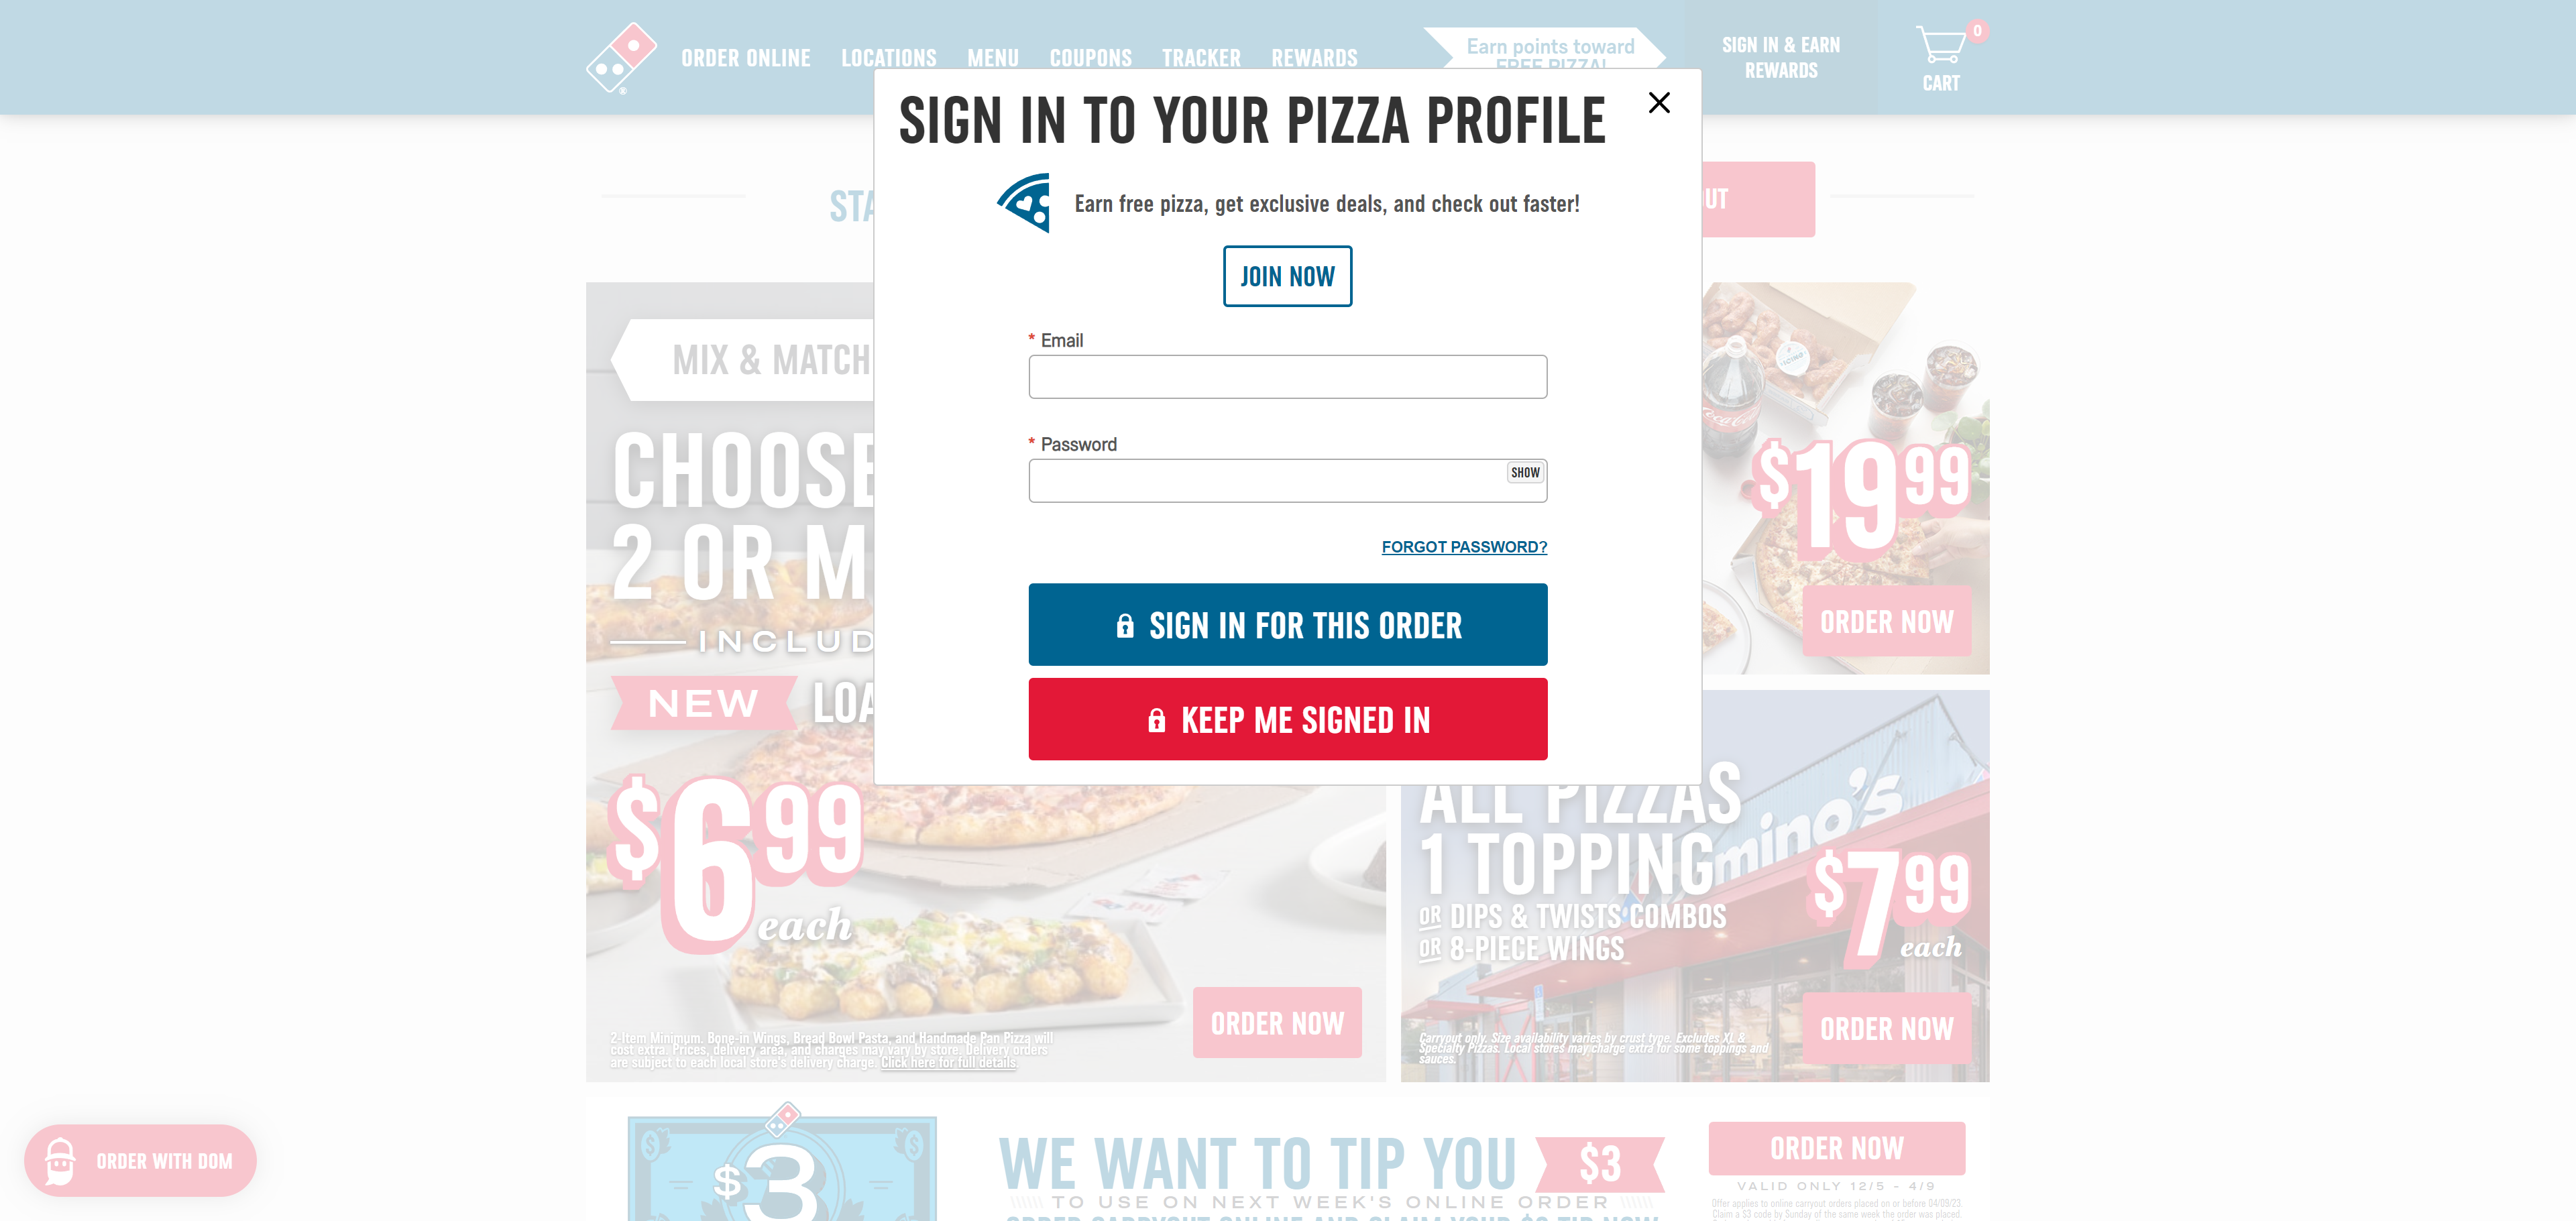login_button: (1030, 583, 1549, 666)
login_form: (1020, 320, 1556, 767)
